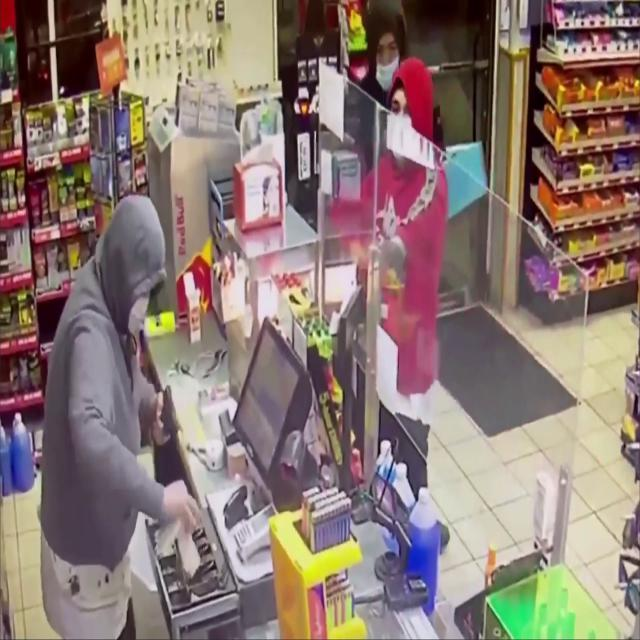gun: (158, 384, 178, 442)
